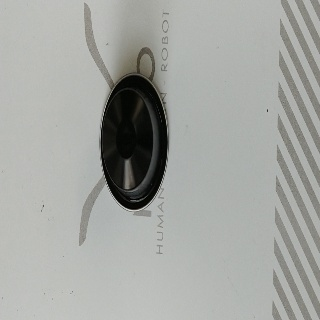capsule_10: (99, 72, 169, 211)
